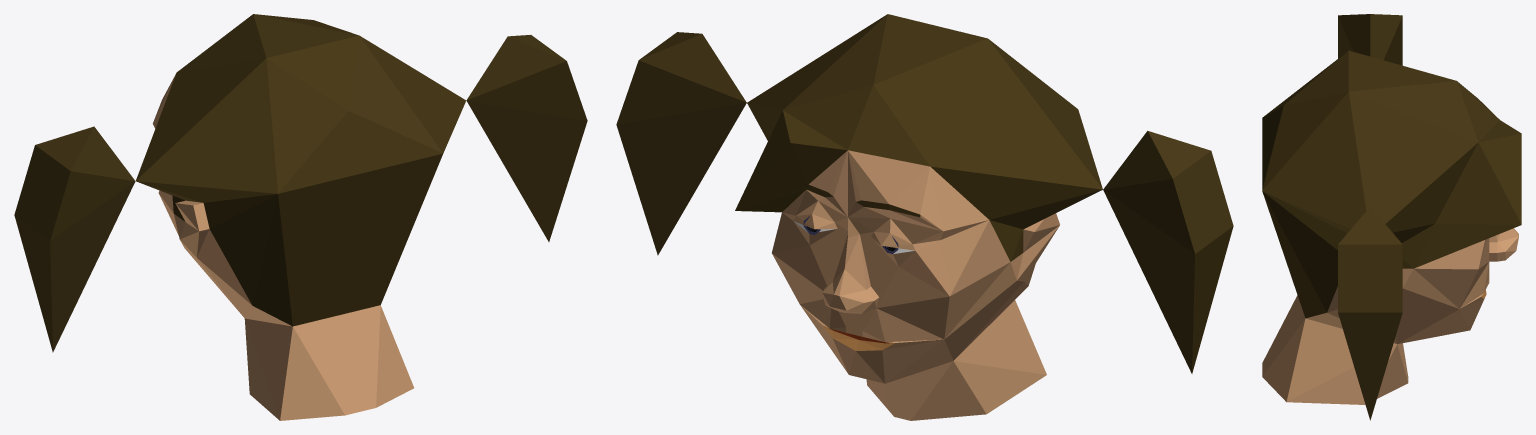
The model's file is npc_chat_woman_8_0.obj.
3 views of the same model, side by side, from view 1: azimuth 30°, elevation 25°; view 2: azimuth 150°, elevation 25°; view 3: azimuth 270°, elevation 25° (orthographic). The views are drawn at different scales.
Size of the model in its own units: 1.62 by 0.9844 by 0.75.
